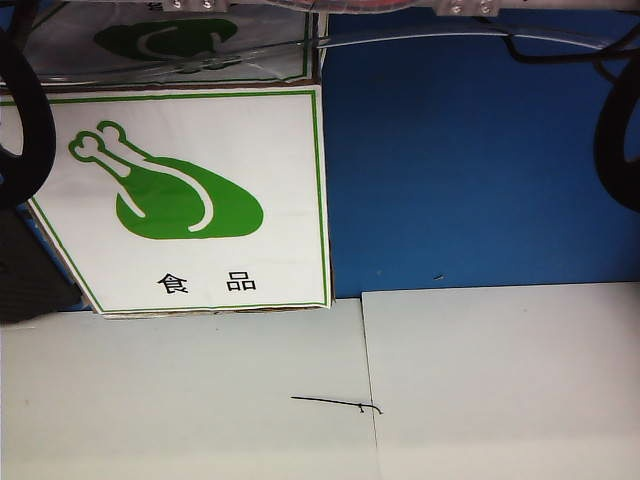Cube_food: (63, 113, 276, 300)
